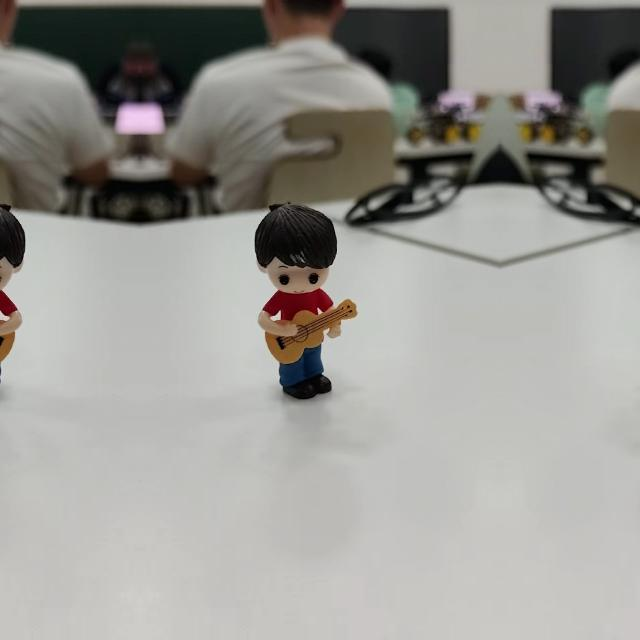man cloth: (260, 292, 332, 324), (0, 292, 19, 323)
man head: (252, 196, 338, 296), (0, 196, 28, 296)
trousers: (272, 341, 334, 399), (0, 341, 7, 399)
